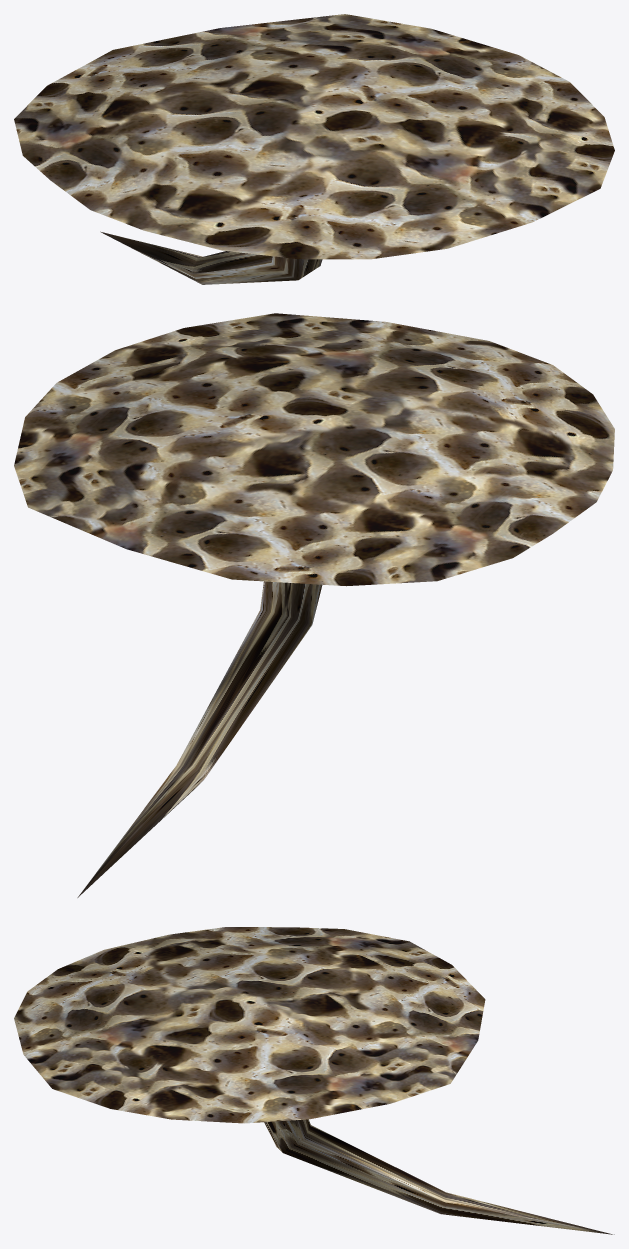
Rendered from CoralStone-07.fbx.
The picture shows the model from 3 angles, top to bottom: view 1: azimuth 30°, elevation 25°; view 2: azimuth 150°, elevation 25°; view 3: azimuth 270°, elevation 25°; orthographic projection. The views are drawn at different scales.
Parts seen in each view (by area): view 1: CoralStone-02_high; view 2: CoralStone-02_high; view 3: CoralStone-02_high.
Boxes of the visible parts, x1,y1,x2,y2 form: CoralStone-02_high: (14,14,614,284); CoralStone-02_high: (14,313,614,897); CoralStone-02_high: (14,927,614,1234).
Bounding box in the file's own units: 15.32 × 8.43 × 19.81.
